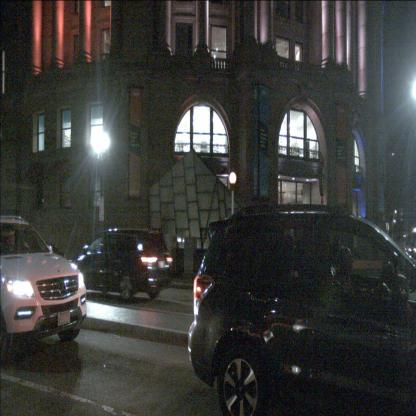vehicle-car: (187, 205, 416, 416), (0, 215, 87, 365), (53, 229, 173, 304)
